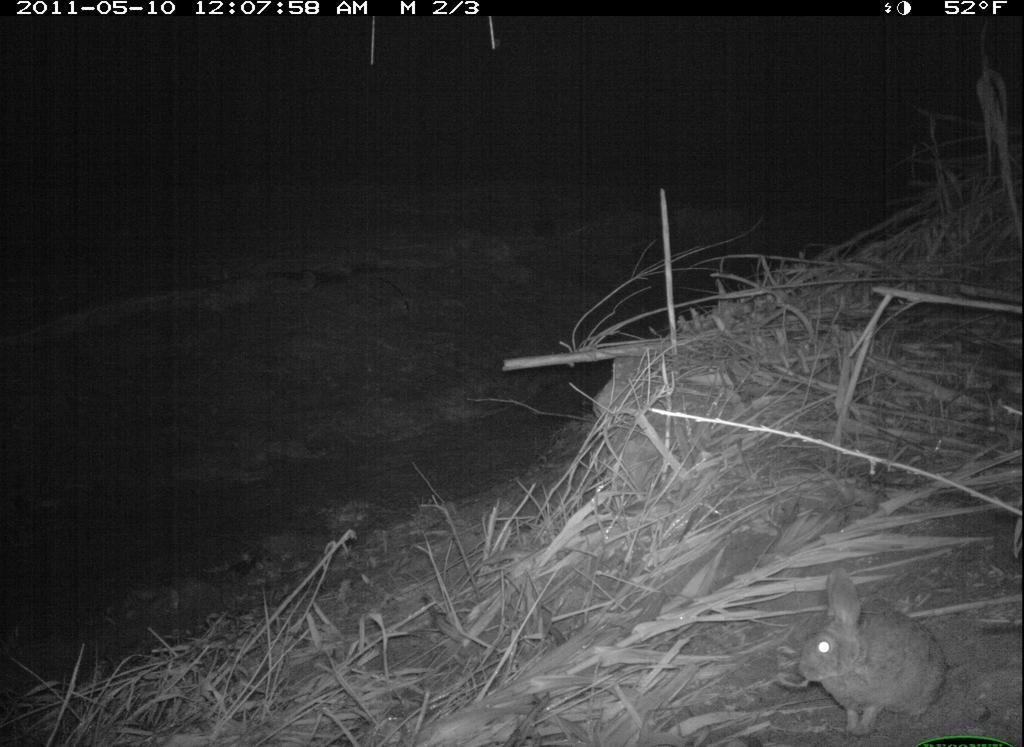rabbit: (789, 556, 954, 740)
